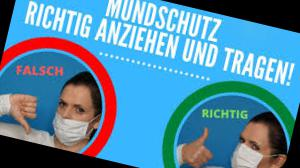mask_weared_incorrect: (49, 89, 98, 149)
with_mask: (225, 129, 273, 168)
